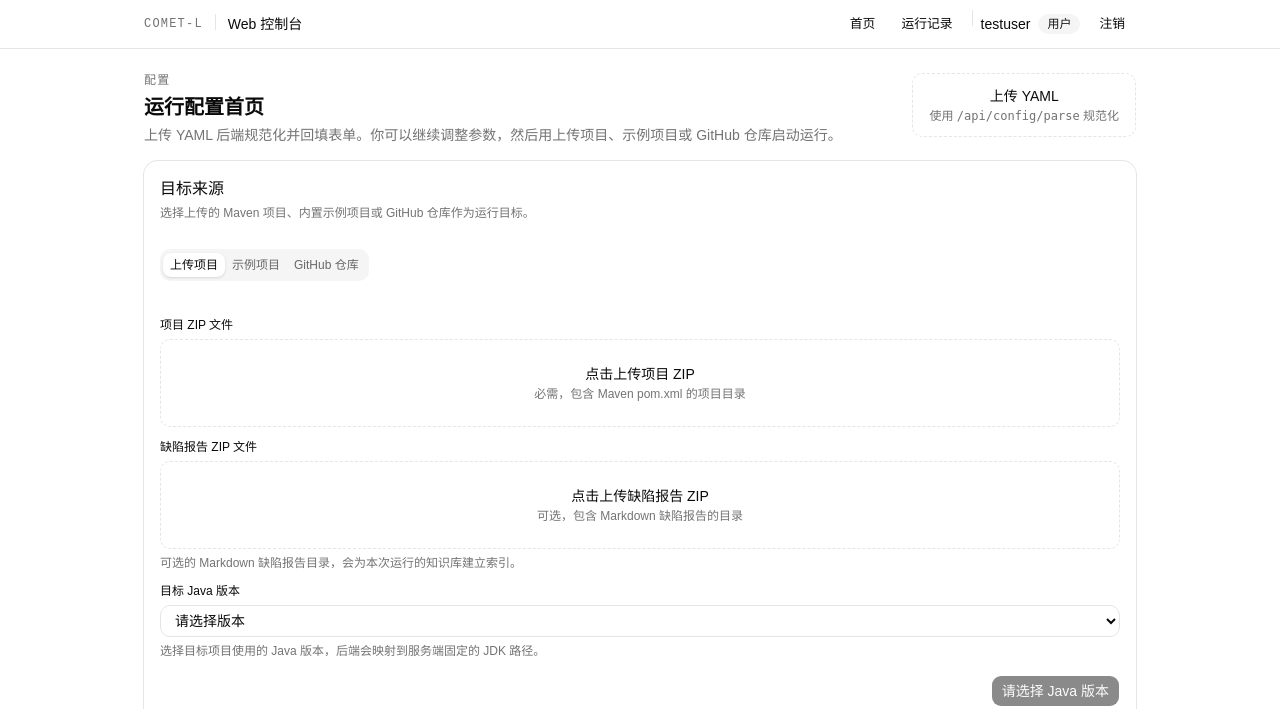
HomePage 示例项目 source mode › loads 计算器示例 and 多文件示例 from the examples endpoint without exposing a local path textbox
Check: the file field named "上传项目 ZIP" is shown, box [160,318,233,332]
Step 1. Click the tab "示例项目" → {"x": 256, "y": 265}, box [225,253,287,277]
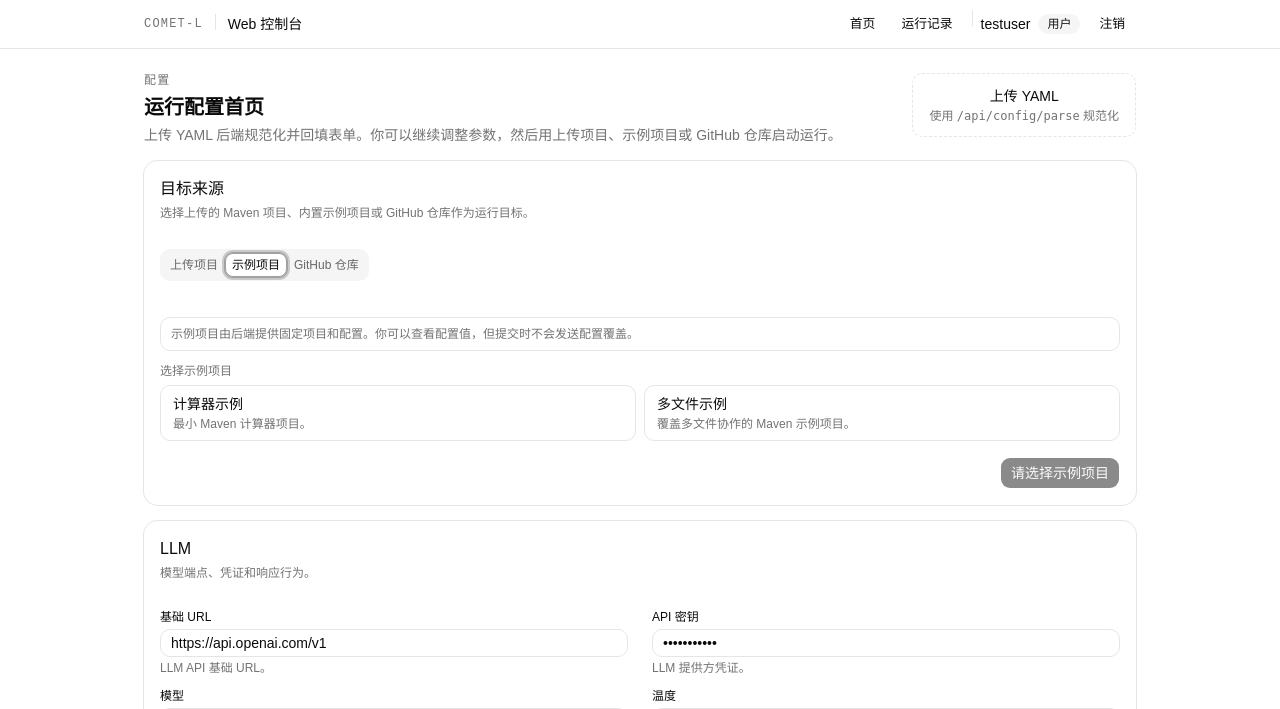
Check: the button "计算器示例 最小 Maven 计算器项目。" is shown, box [160,385,636,441]
Check: the button "多文件示例 覆盖多文件协作的 Maven 示例项目。" is shown, box [644,385,1120,441]
